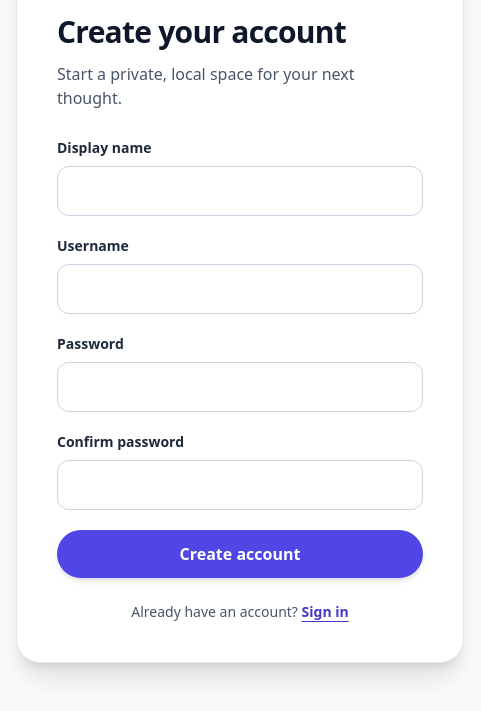
Test: RegisterPage › requires every registration field
This screenshot has width=481, height=711.
(page scrolled)
Click the button "Create account": (240, 554) [57,530,423,578]
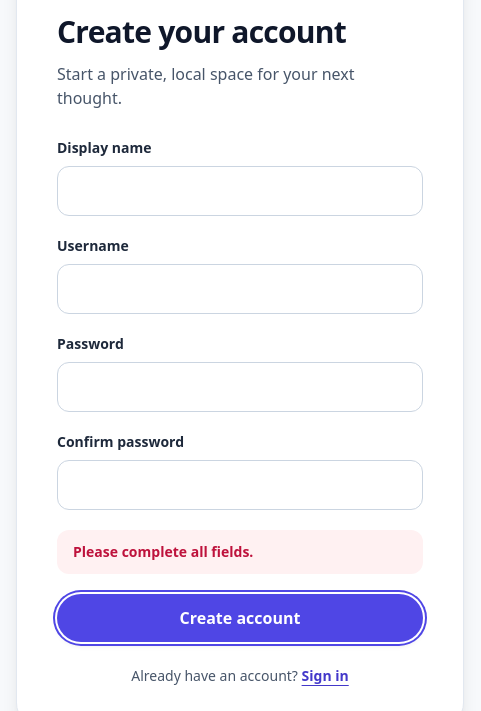
Check: the message reads "Please complete all fields.", box [73,542,253,561]
